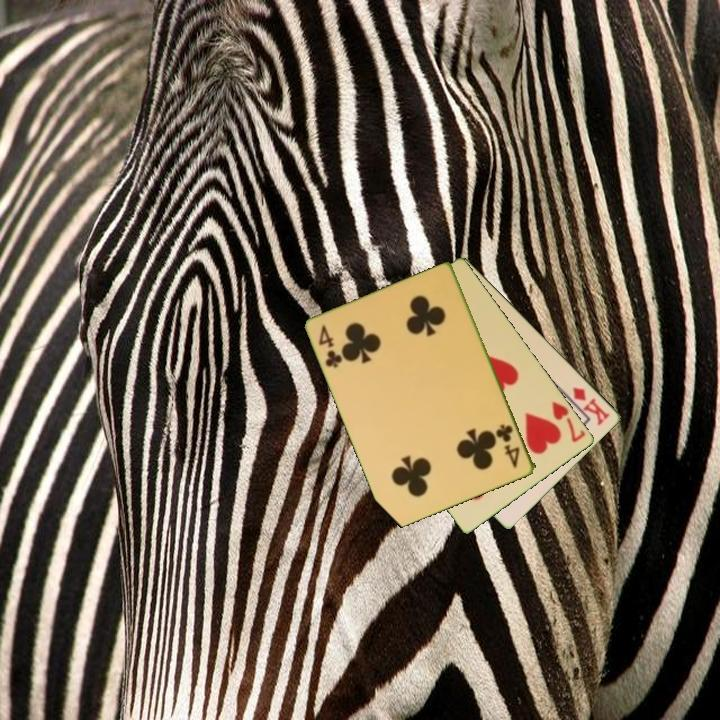4c: (315, 322, 346, 371), (493, 421, 523, 471)
7h: (548, 398, 589, 445)
Kd: (569, 383, 613, 429)
